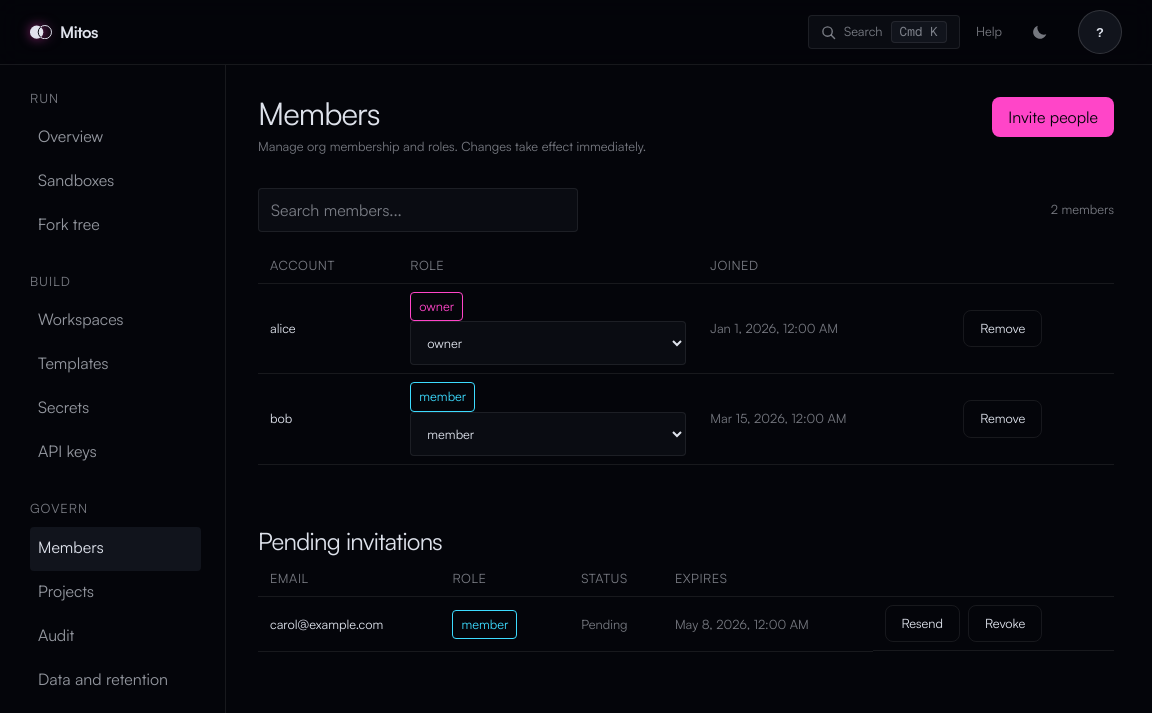
Test case: Members view › cancelling the remove confirmation leaves the member in place
Check: the text "bob" is shown, box [270, 410, 292, 426]
Click the button with aria-label "remove bob".
click(1003, 419)  # box [963, 400, 1042, 438]
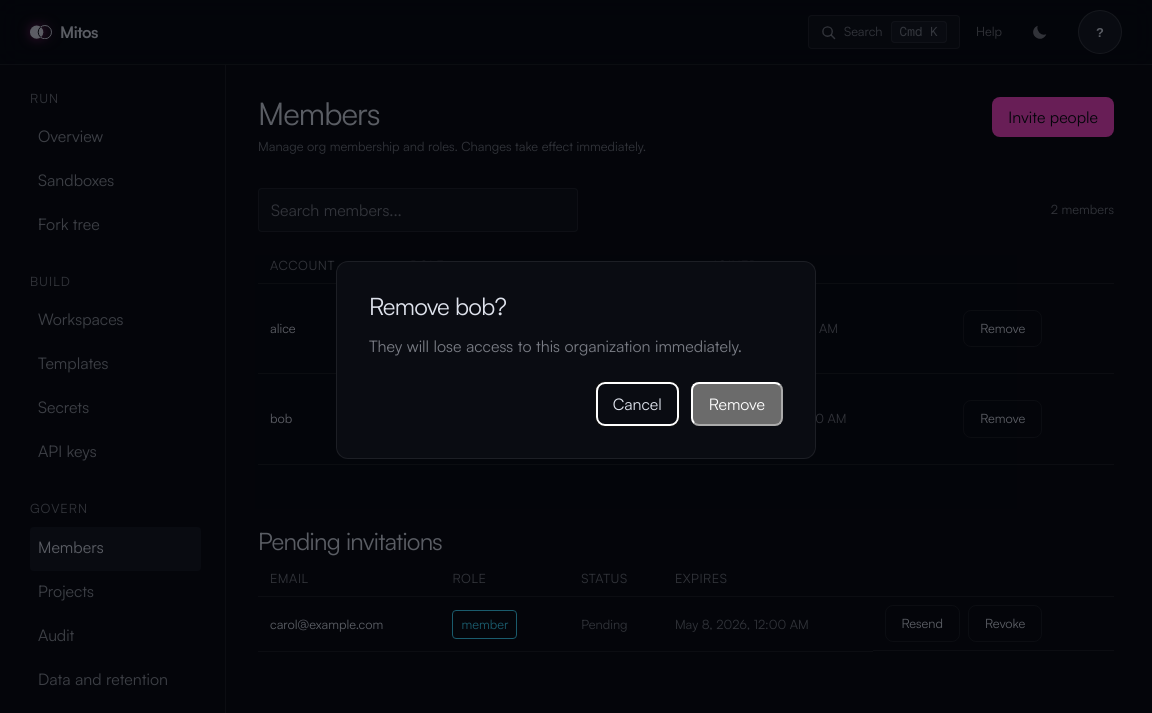
Click the button "Cancel".
click(637, 404)  # box [596, 382, 679, 426]
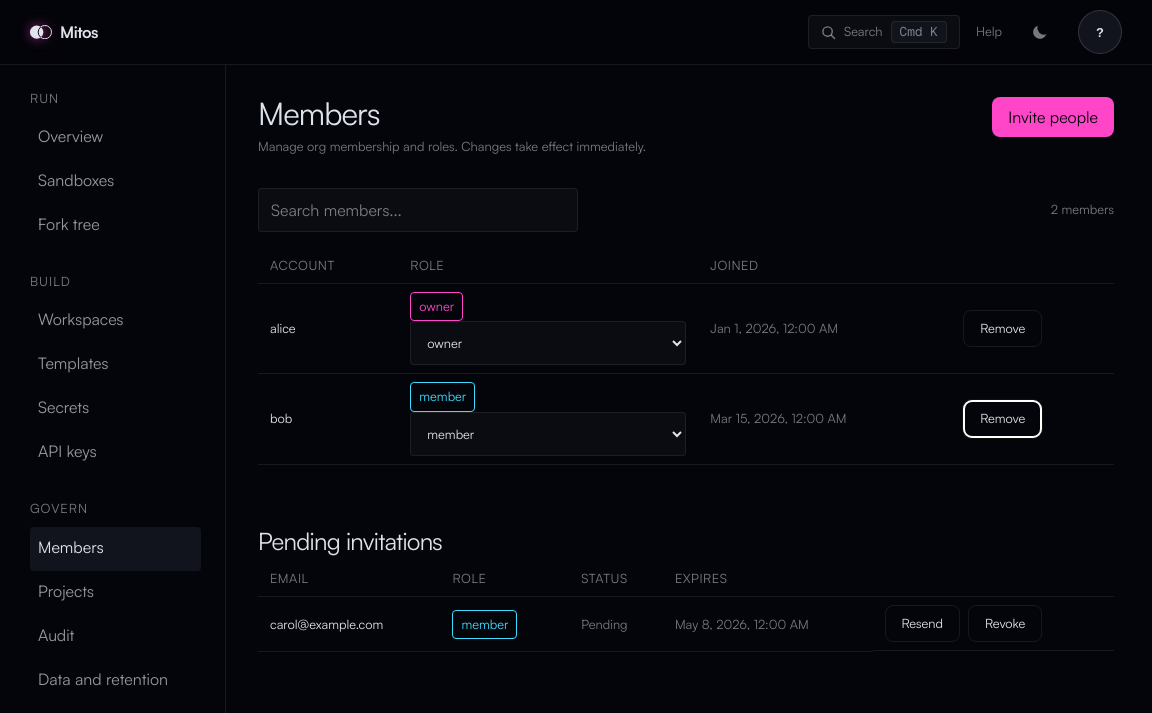
Check: the text "bob" is shown, box [270, 410, 292, 426]
Check: the dialog is gone
